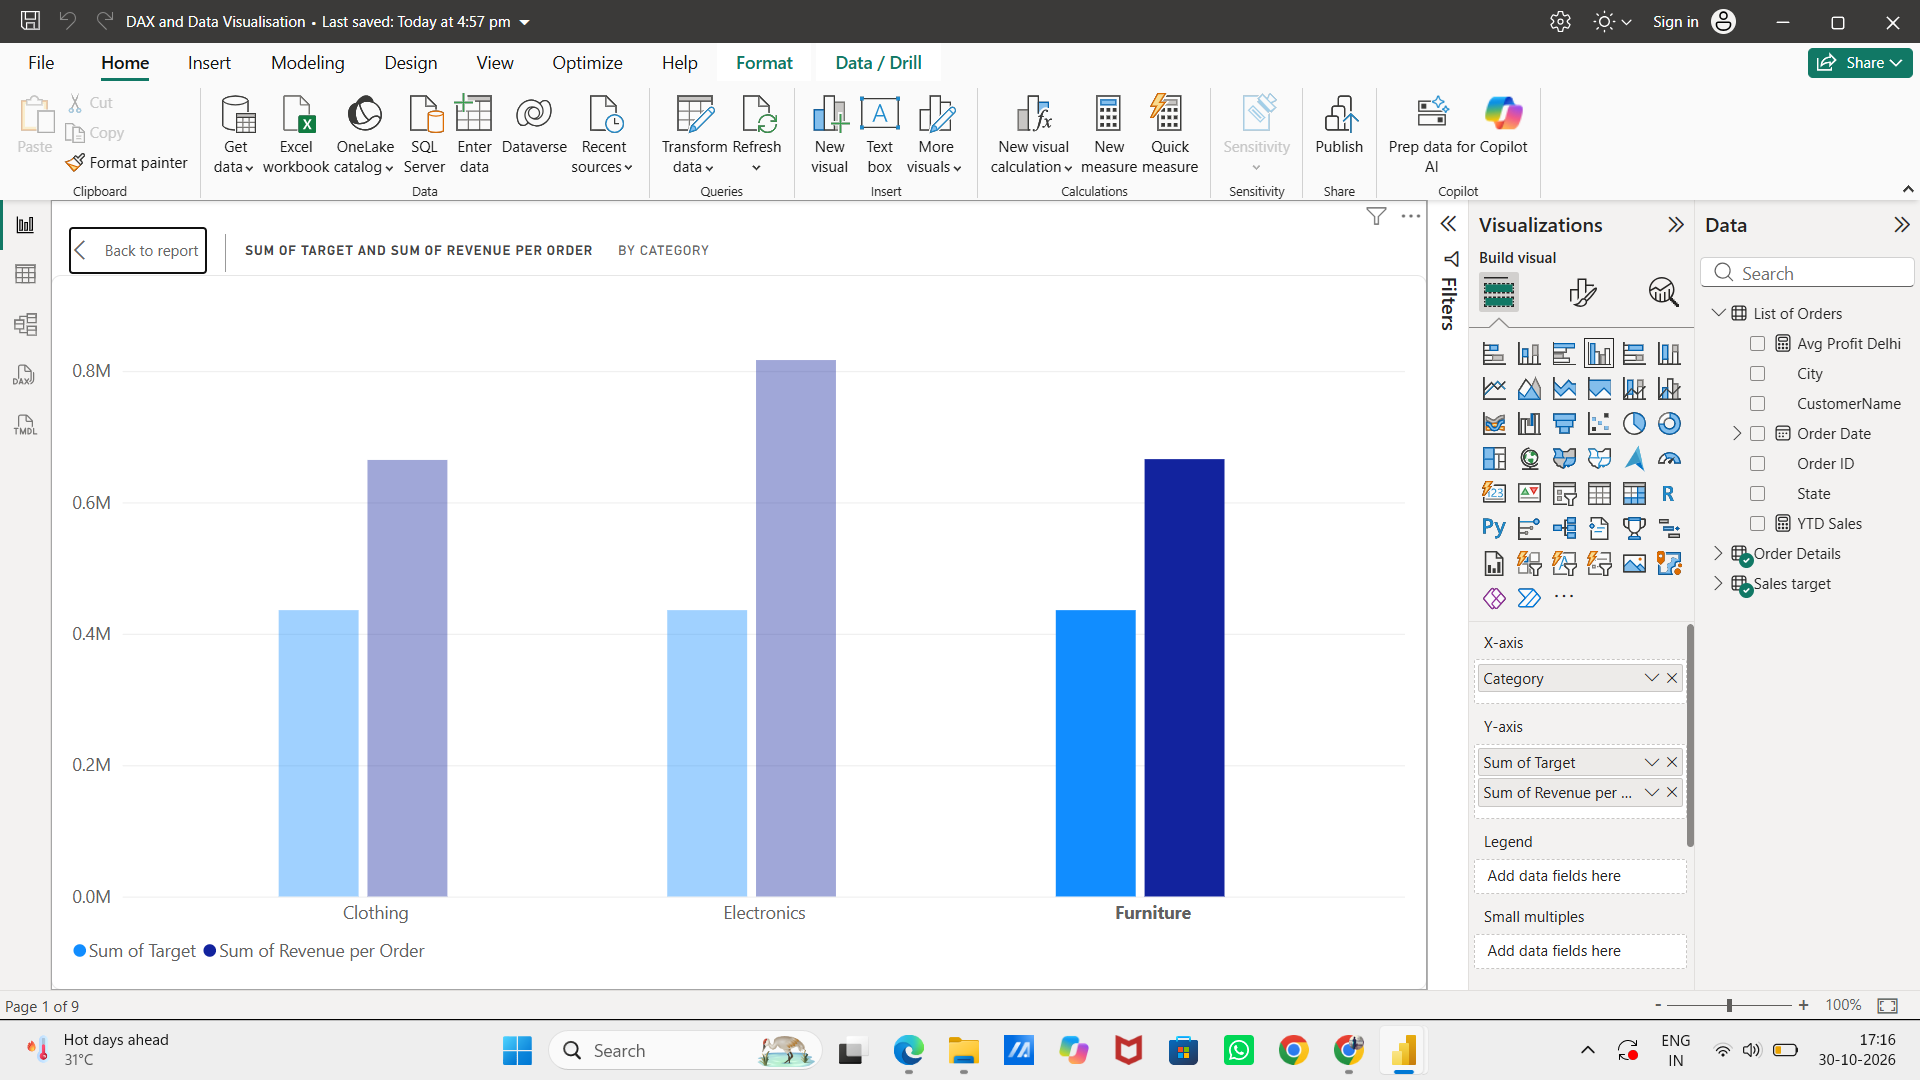

Layout of this report page (visuals, bound fields, positions):
{"tool":"powerbi","page":{"name":"Clustered column chart","canvas":[1920,1080],"ordinal":0},"visuals":[{"type":"clusteredColumnChart","fields":{"Category":["Order Details.Category"],"Y":["Sum(Sales target.Target)","Sum(Order Details.Revenue per Order)"]},"box":[10,0,280,280],"z":0}]}

Visuals, with their boxes on the page's 1920x1080 design canvas (x1, y1, x2, y2). These are canvas units, not pixel positions in the 1920x1080 screenshot, which may show the page scaled, cropped or inside an application window:
clusteredColumnChart - Order Details.Category x Sum(Sales target.Target): Rect(10, 0, 290, 280)
